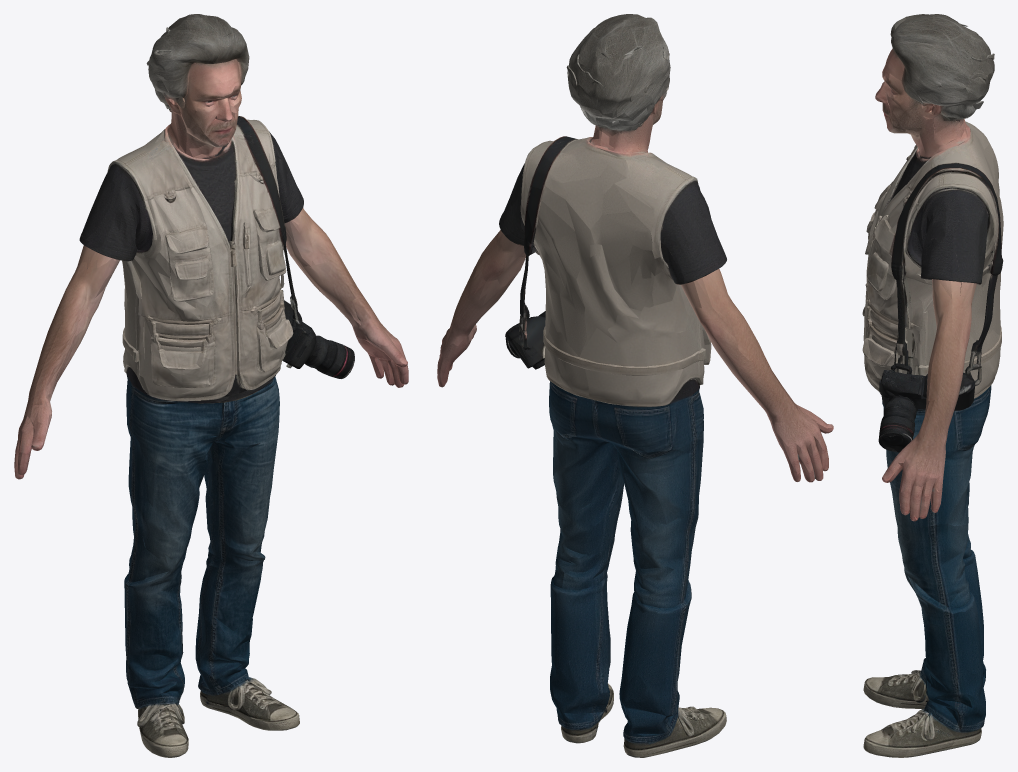
The model's file is enemy_paparazzo.glb.
3 renders of one model, left to right at view 1: azimuth 30°, elevation 25°; view 2: azimuth 150°, elevation 25°; view 3: azimuth 270°, elevation 25°, orthographic.
Visible parts, largest first — view 1: Mesh_0; view 2: Mesh_0; view 3: Mesh_0.
Boxes of the visible parts, left/top/right/bottom form: Mesh_0: left=14, top=14, right=408, bottom=757; Mesh_0: left=437, top=14, right=833, bottom=757; Mesh_0: left=862, top=14, right=1003, bottom=757.
Size of the model in its own units: 1.08 by 1.9 by 0.3425.
Materials: 1 (1 with a texture image).
